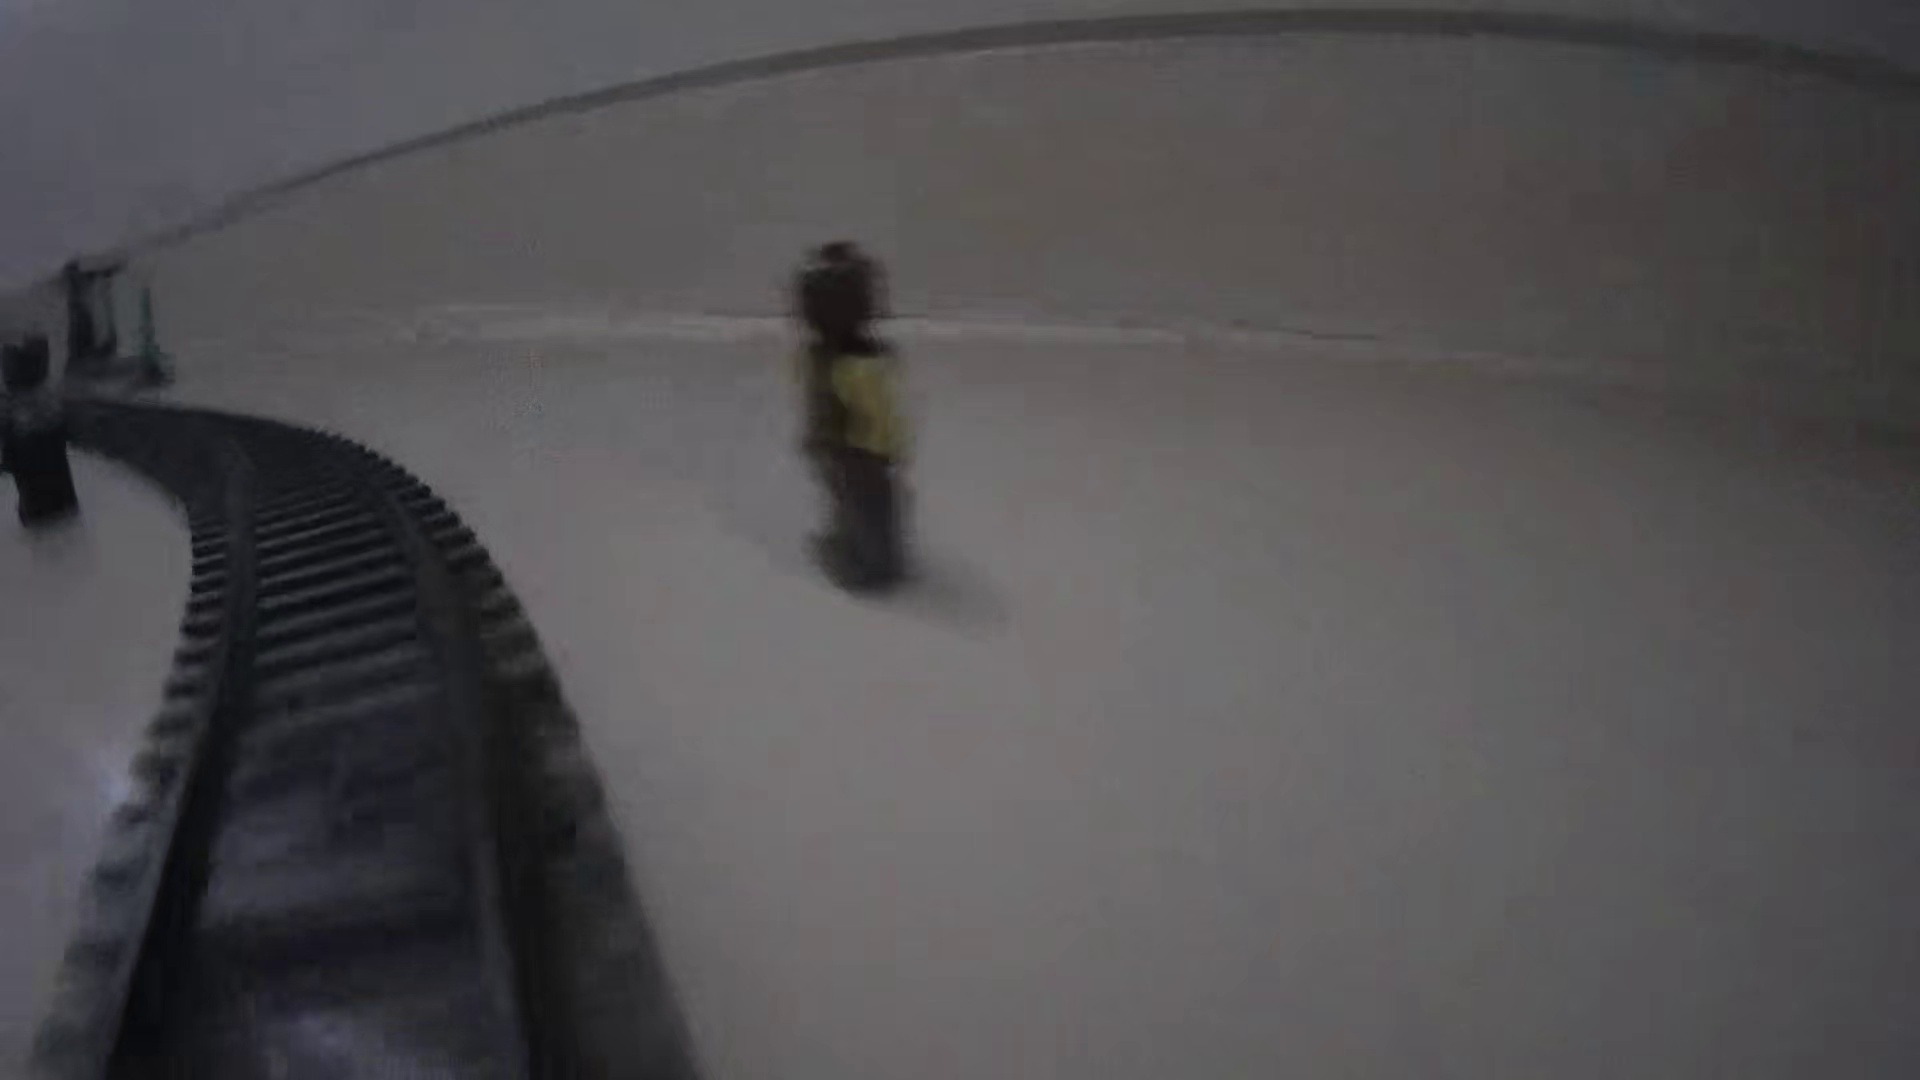people: (792, 235, 926, 603), (1, 325, 83, 525)
